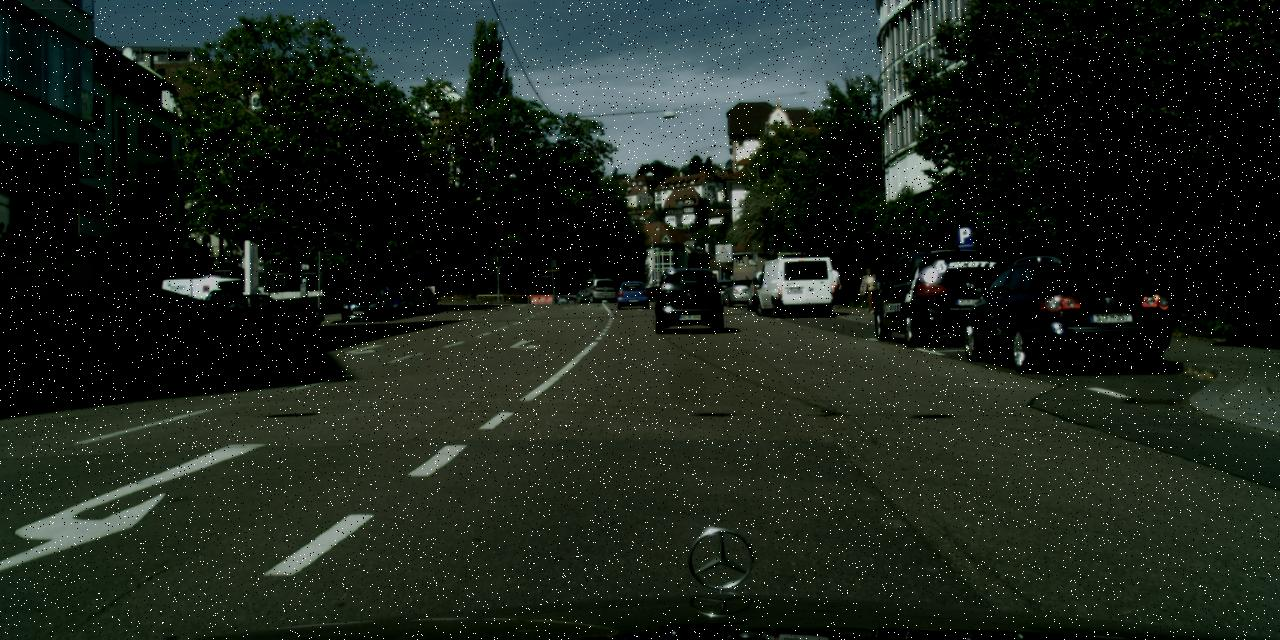ped: (860, 266, 879, 312), (822, 262, 839, 307)
